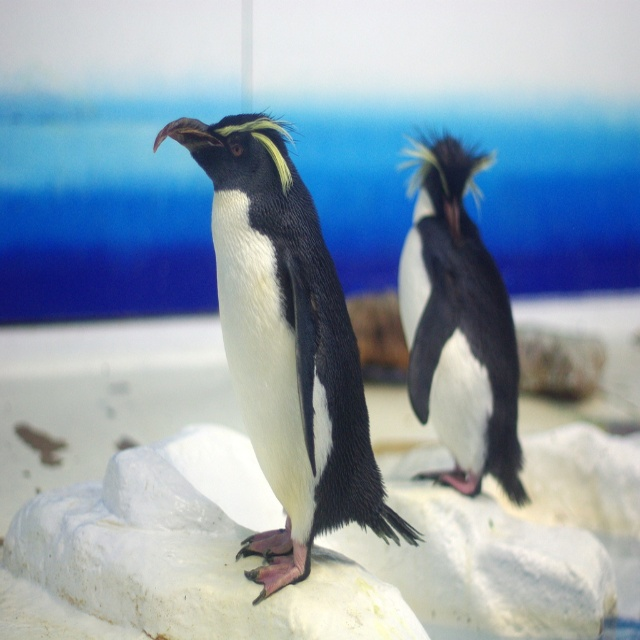Penguin: (152, 111, 426, 603), (396, 128, 531, 511)
